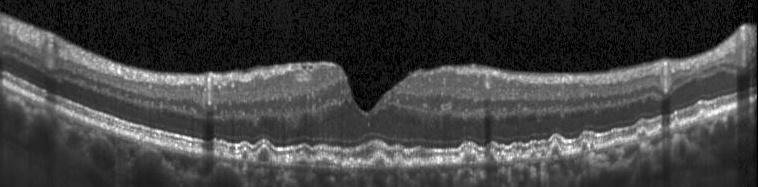lamellar_macular_rupture: (341, 67, 408, 112)
retinal_drusen: (294, 153, 311, 166), (462, 151, 477, 164), (315, 157, 332, 167), (258, 147, 269, 162), (373, 156, 386, 168), (215, 147, 227, 159), (551, 145, 560, 156), (511, 150, 521, 159), (396, 158, 405, 167), (638, 129, 647, 138), (412, 158, 422, 166), (489, 151, 497, 161), (614, 137, 623, 145), (699, 110, 706, 119), (530, 150, 537, 159), (674, 120, 680, 128), (657, 127, 664, 133), (583, 142, 588, 150), (590, 142, 595, 150), (541, 149, 546, 157), (243, 150, 247, 159), (500, 153, 505, 160)
